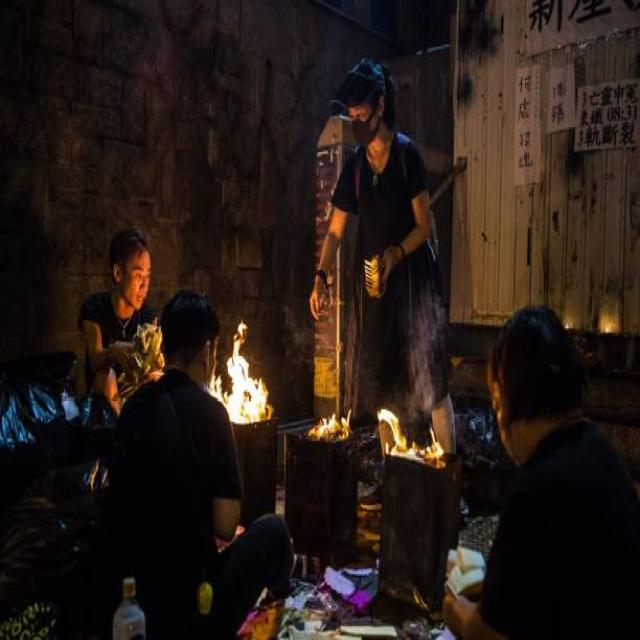fire: (211, 320, 272, 423), (379, 408, 444, 464)
